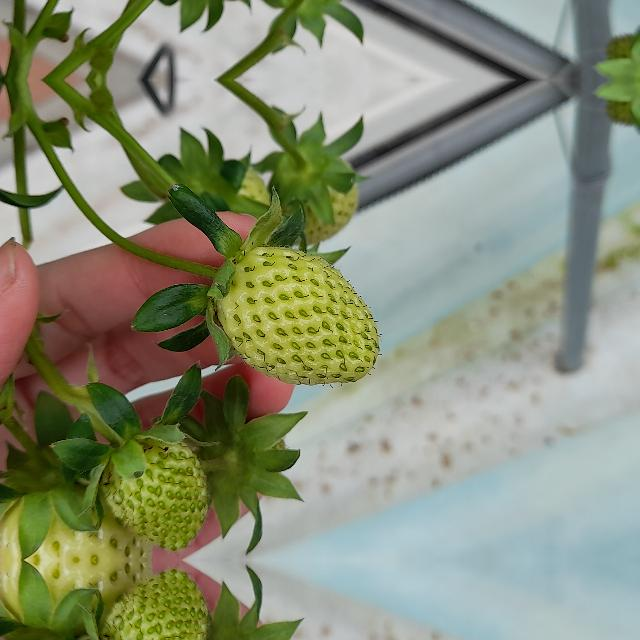Health_25: (216, 246, 380, 384), (96, 436, 208, 548), (96, 571, 207, 640)
